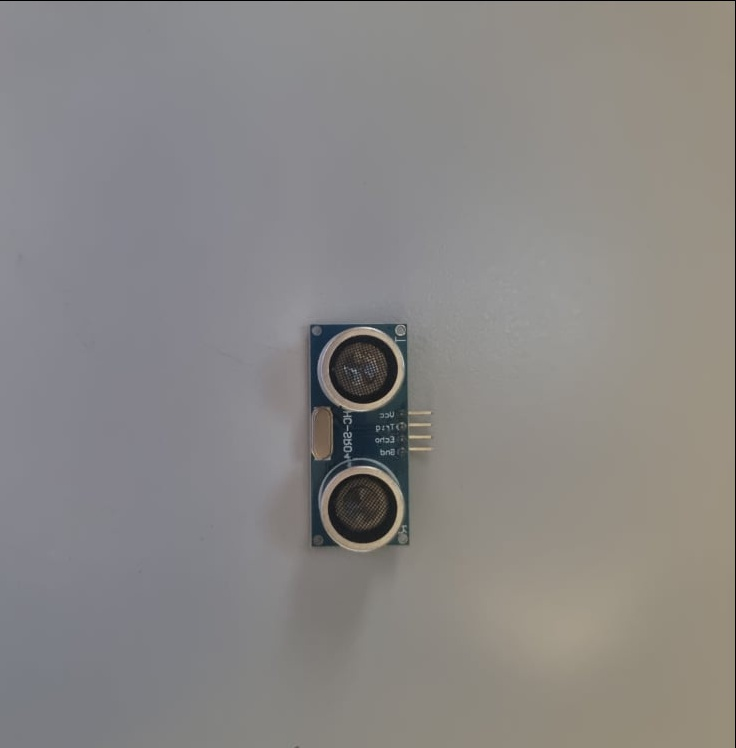SENSOR: (307, 319, 413, 548)
